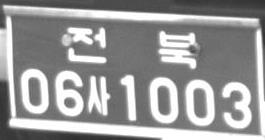0: (184, 77, 215, 127), (148, 76, 179, 124), (19, 67, 50, 114)
1: (116, 73, 144, 121)
3: (221, 80, 252, 129)
6: (54, 69, 83, 117)
사: (86, 75, 110, 115)
전북_D: (66, 26, 198, 70)
